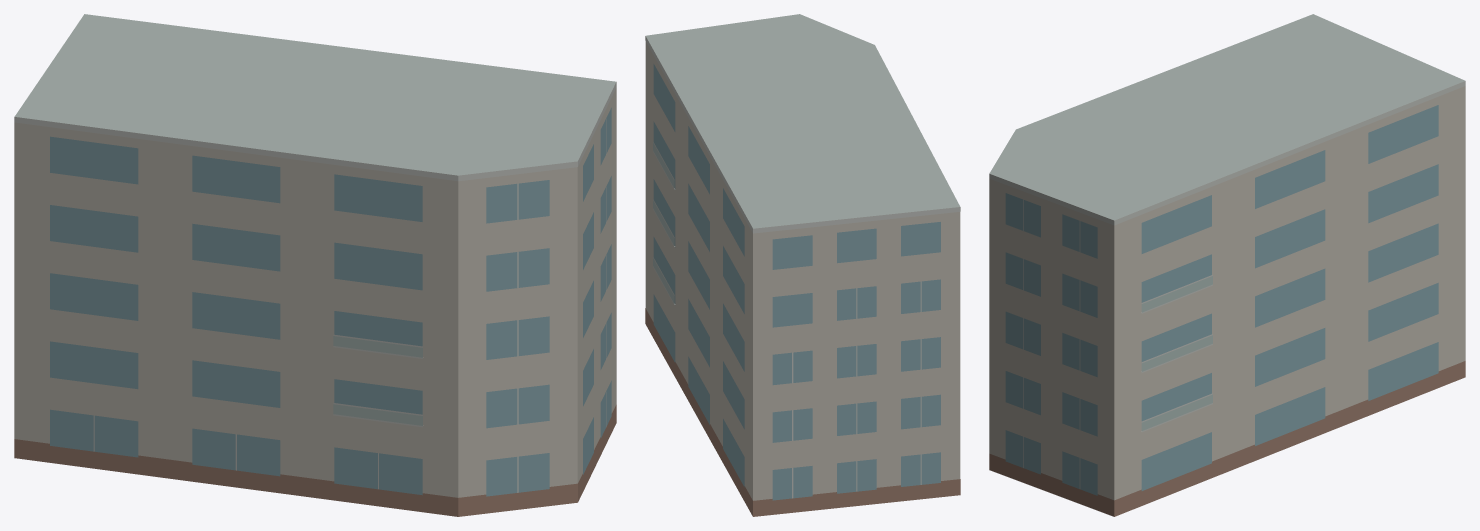
The model's file is survey-upis-32935263.glb.
3 renders of one model, left to right at view 1: azimuth 30°, elevation 25°; view 2: azimuth 150°, elevation 25°; view 3: azimuth 270°, elevation 25°, orthographic. The views are drawn at different scales.
Visible parts, largest first — view 1: survey-upis-32935263.tmp; view 2: survey-upis-32935263.tmp; view 3: survey-upis-32935263.tmp.
Part boxes in pixels (x1,y1,x2,y2): survey-upis-32935263.tmp: [14, 14, 616, 516]; survey-upis-32935263.tmp: [645, 14, 960, 516]; survey-upis-32935263.tmp: [989, 14, 1465, 516].
Bounding box in the file's own units: 21.83 × 14.6 × 21.28.
